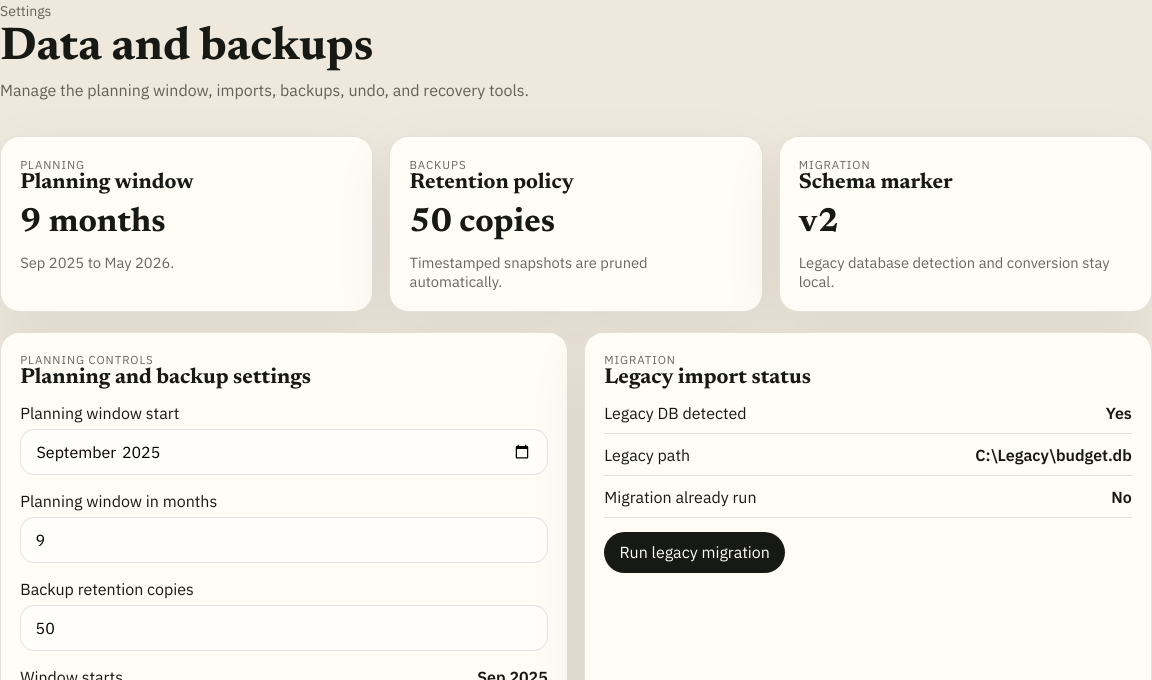
Test: SettingsPage › updates planning and backup settings and refreshes derived state
Replace the text in the number field labelled "Planning window in months" with "8". click: (284, 540)
box: [20, 517, 548, 563]
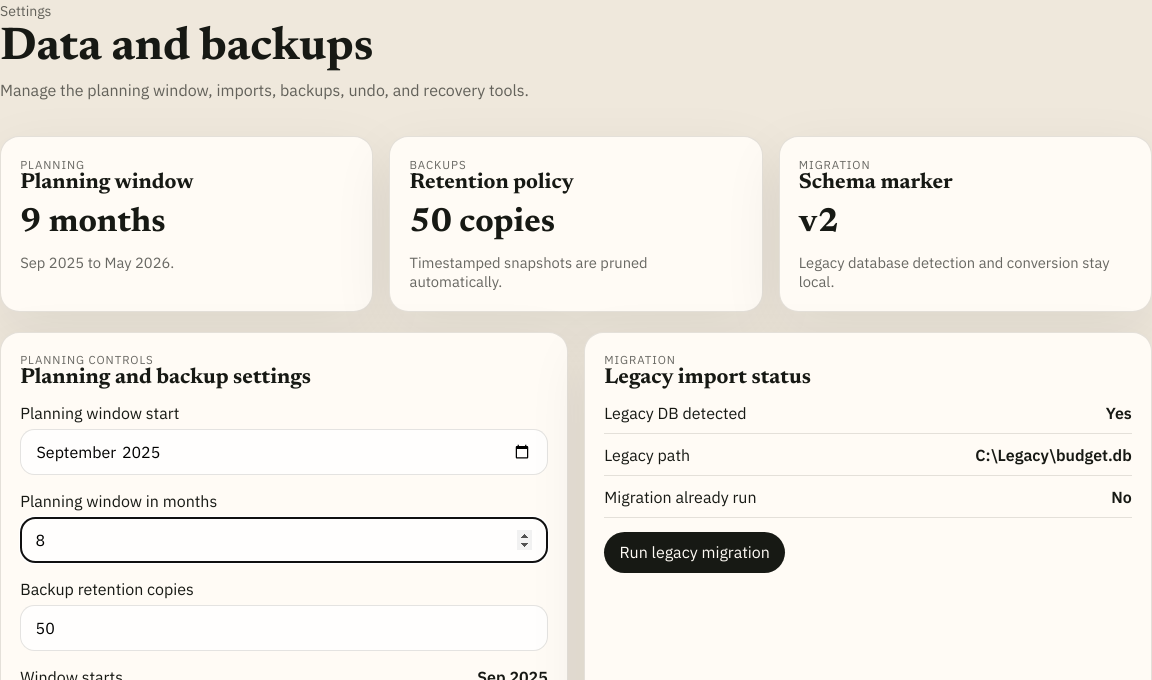
Replace the text in the number field labelled "Backup retention copies" with "24". click: (284, 628)
box: [20, 605, 548, 651]
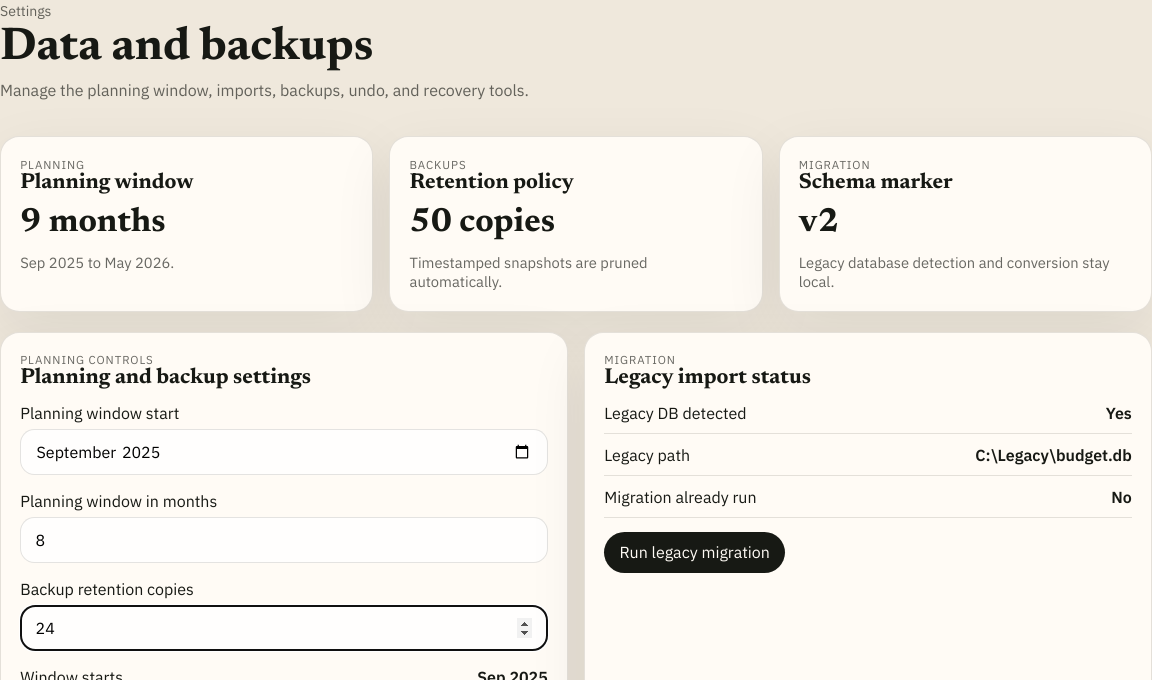
Replace the text in the field labelled "Planning window start" with "2025-08". click: (284, 452)
box: [20, 429, 548, 475]
(page scrolled)
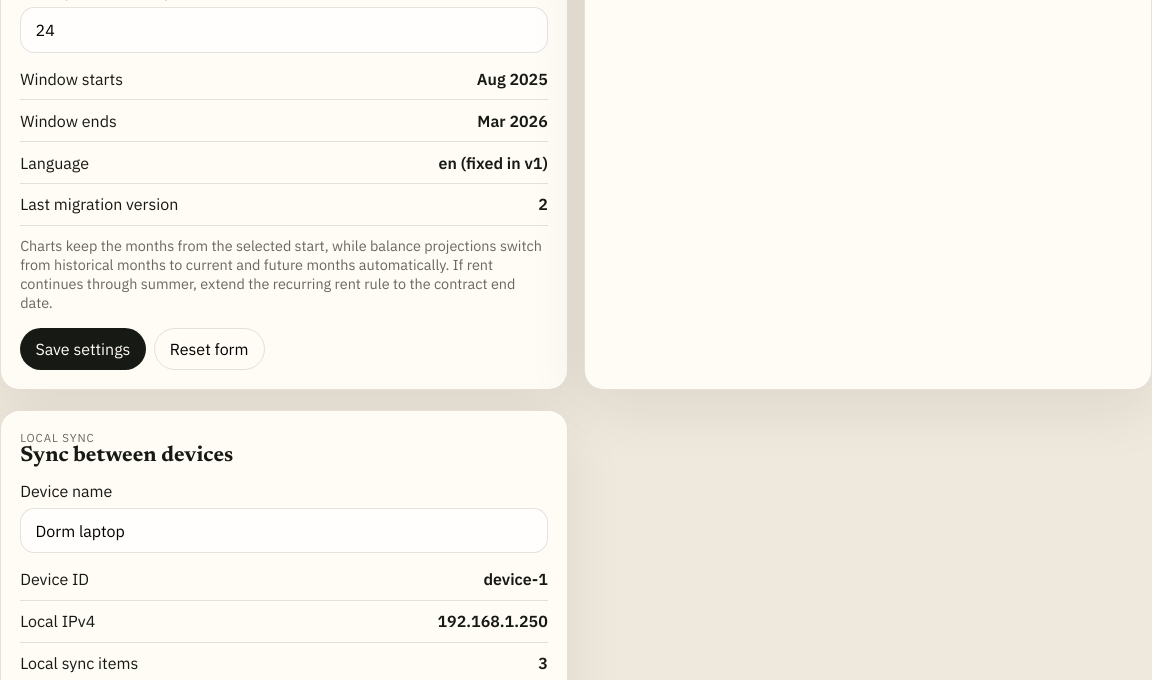
Click the button "Save settings". click: (83, 349)
box: [20, 328, 146, 370]
(page scrolled)
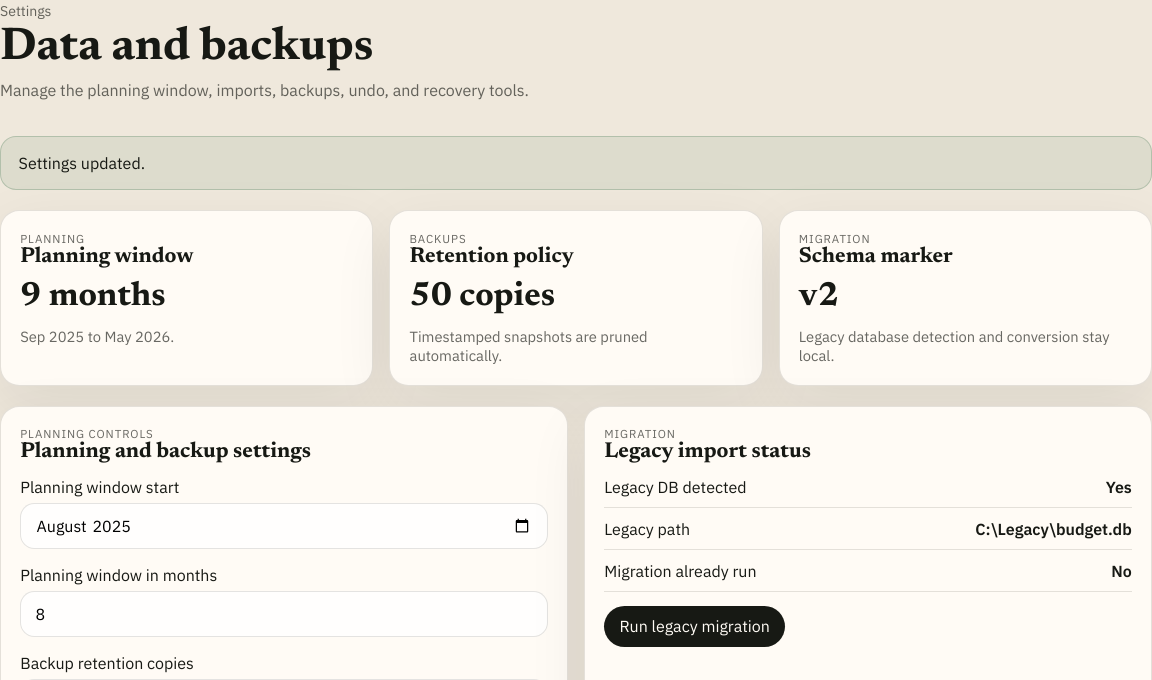
Now the text "Settings updated." is shown, box [19, 153, 145, 173]
